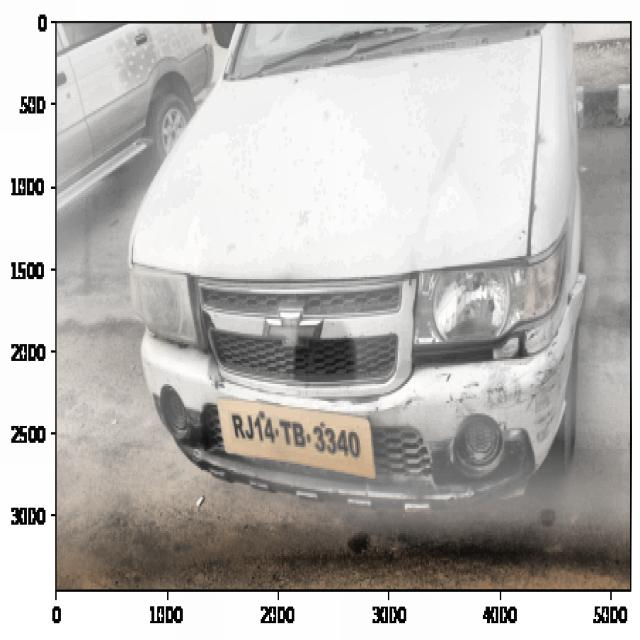license_plate: (227, 402, 366, 469)
